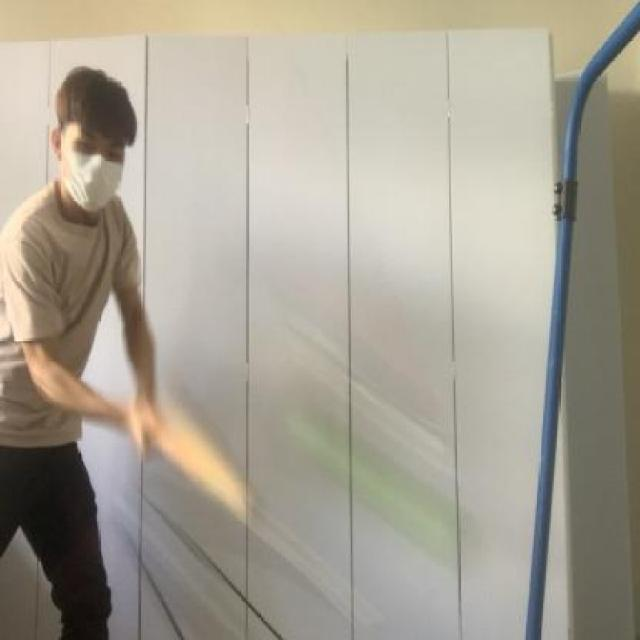baseball: (279, 387, 493, 582)
